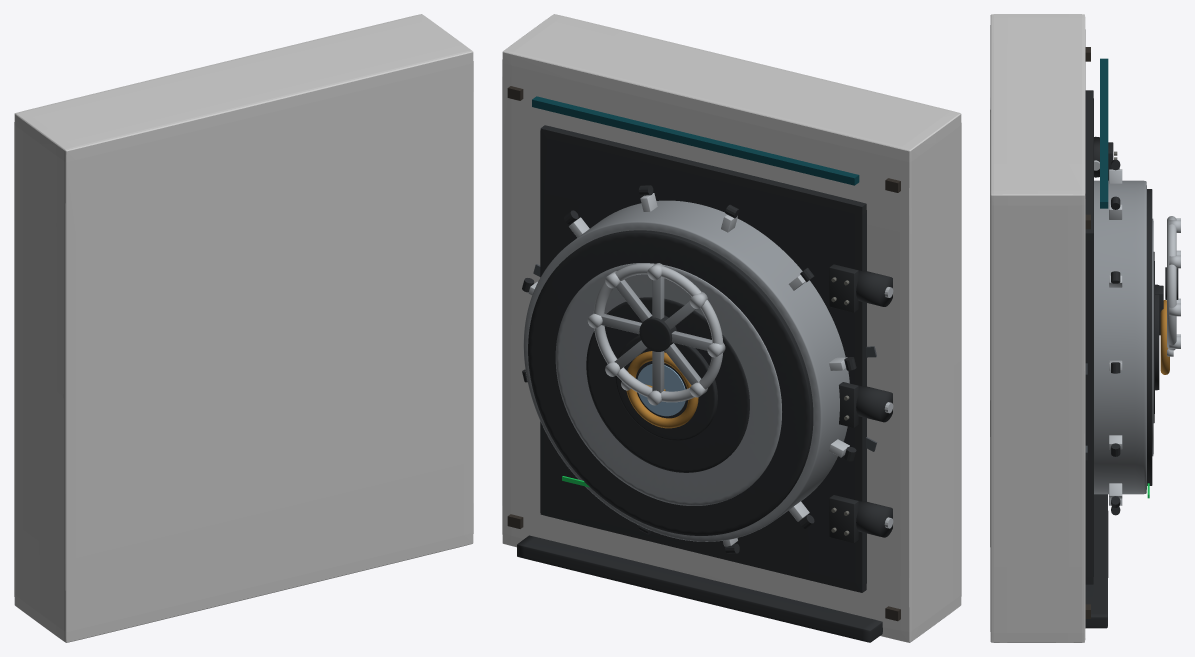
Rendered from hm_bank_vault_door_v2.obj.
3 views of the same model, side by side, from view 1: azimuth 30°, elevation 25°; view 2: azimuth 150°, elevation 25°; view 3: azimuth 270°, elevation 25° (orthographic). The views are drawn at different scales.
Visible parts, largest first — view 1: VD_Frame; view 2: VD_Frame, VD_Recess, VD_FaceRing_0, VD_FaceRing_1, VD_Door, VD_FaceRing_2, VD_Threshold, VD_TopBar, VD_WheelRim, VD_Boss, VD_DialRing, VD_HingePlate_0 (+7 smaller); view 3: VD_Frame, VD_Door, VD_Recess, VD_Threshold, VD_FaceRing_0, VD_TopBar, VD_WheelRim, VD_DialRing, VD_Boss, VD_FaceRing_1, VD_FaceRing_2.
Part boxes in pixels (x1,y1,x2,y2): VD_Frame: [14, 14, 473, 642]; VD_Frame: [502, 14, 961, 642]; VD_Recess: [540, 125, 866, 592]; VD_FaceRing_0: [528, 230, 813, 535]; VD_FaceRing_1: [555, 263, 781, 505]; VD_Door: [523, 200, 849, 541]; VD_FaceRing_2: [586, 297, 749, 472]; VD_Threshold: [517, 535, 882, 642]; VD_TopBar: [532, 96, 859, 185]; VD_WheelRim: [593, 263, 723, 402]; VD_Boss: [615, 335, 717, 440]; VD_DialRing: [626, 351, 698, 428]; VD_HingePlate_0: [829, 495, 858, 543]; VD_Frame: [990, 14, 1085, 642]; VD_Door: [1094, 180, 1146, 494]; VD_Recess: [1085, 90, 1093, 584]; VD_Threshold: [1085, 494, 1108, 628]; VD_FaceRing_0: [1147, 189, 1152, 485]; VD_TopBar: [1100, 58, 1108, 208]; VD_WheelRim: [1167, 216, 1176, 350]; VD_DialRing: [1160, 300, 1169, 374]; VD_Boss: [1155, 284, 1159, 390]; VD_FaceRing_1: [1152, 218, 1153, 456]; VD_FaceRing_2: [1153, 252, 1154, 422].
Size of the model in its own units: 2.6 by 3 by 1.15.
